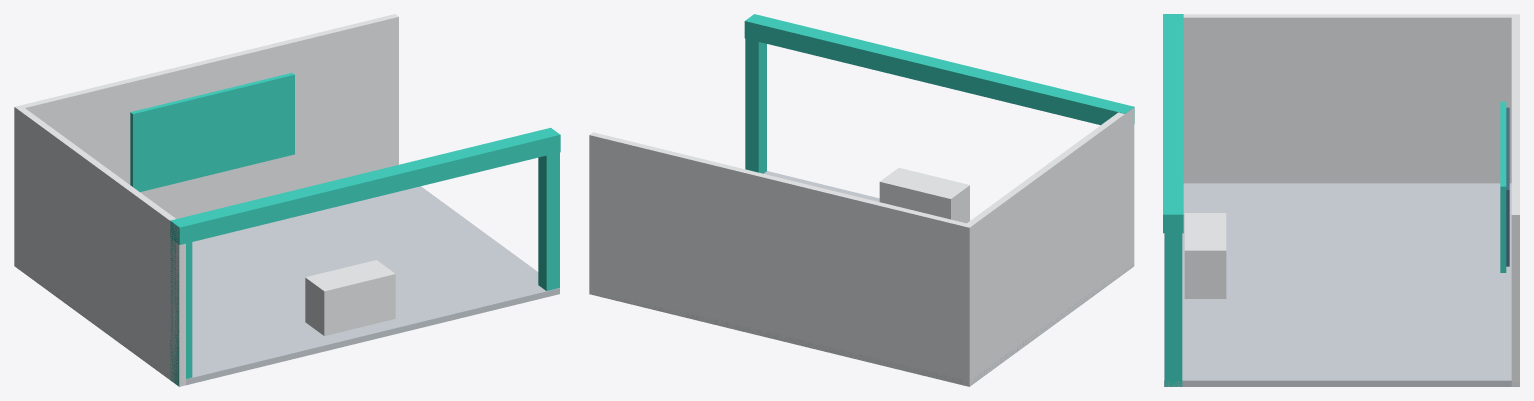
3 renders of one model, left to right at view 1: azimuth 30°, elevation 25°; view 2: azimuth 150°, elevation 25°; view 3: azimuth 270°, elevation 25°, orthographic. The views are drawn at different scales.
Visible parts, largest first — view 1: Exhibition Booth Concept; view 2: Exhibition Booth Concept; view 3: Exhibition Booth Concept.
Part boxes in pixels (x1,y1,x2,y2): Exhibition Booth Concept: (14, 14, 560, 386); Exhibition Booth Concept: (589, 14, 1134, 386); Exhibition Booth Concept: (1163, 14, 1519, 386).
Bounding box in the file's own units: 8 × 3.2 × 6.02.
